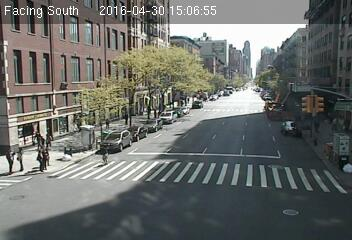neg: (88, 29, 126, 79), (183, 32, 209, 66), (223, 80, 248, 113), (47, 44, 69, 74), (305, 26, 327, 56), (207, 83, 225, 107), (174, 23, 192, 47), (284, 17, 302, 41), (124, 45, 141, 68), (178, 93, 194, 115), (223, 27, 239, 49), (330, 34, 346, 56), (243, 21, 258, 41), (266, 27, 281, 46), (146, 46, 159, 64), (249, 51, 261, 68), (275, 68, 287, 84), (334, 78, 346, 94), (326, 57, 335, 69), (318, 76, 327, 88), (127, 84, 136, 95), (299, 87, 307, 98)
pos: (17, 144, 35, 168), (96, 144, 112, 166), (32, 149, 46, 168), (29, 130, 43, 149), (311, 117, 324, 134), (120, 110, 133, 126), (143, 105, 155, 122), (44, 131, 56, 147), (332, 114, 341, 127), (104, 116, 112, 127)
